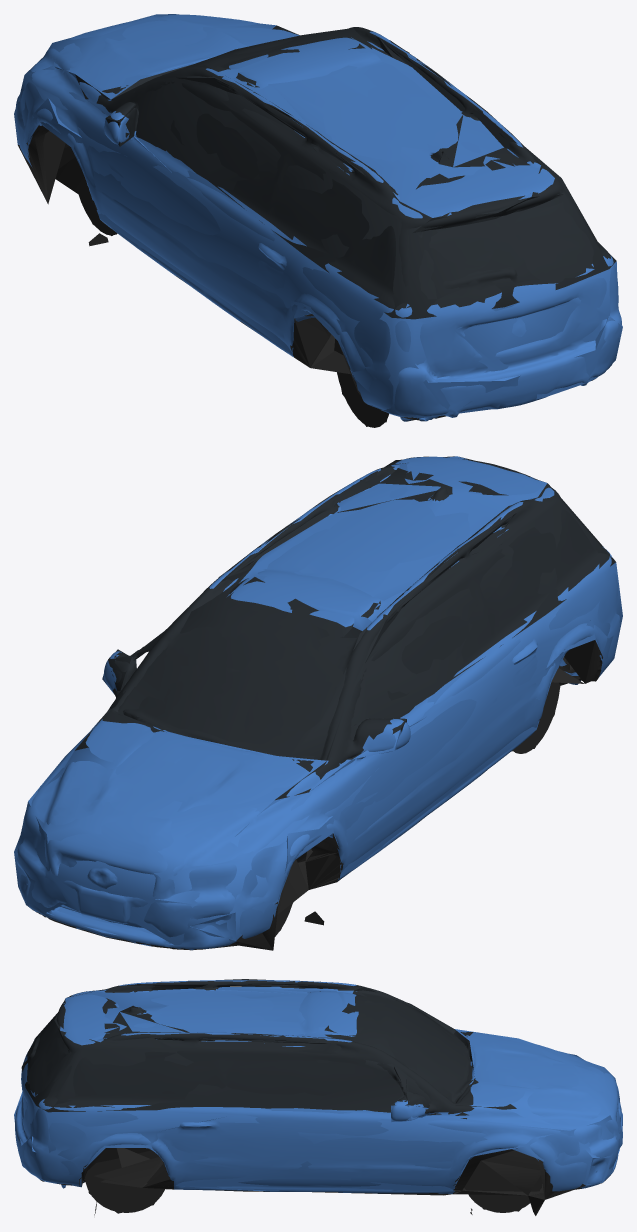
Rendered from volvo-xc70.glb.
The picture shows the model from 3 angles, top to bottom: view 1: azimuth 30°, elevation 25°; view 2: azimuth 150°, elevation 25°; view 3: azimuth 270°, elevation 25°; orthographic projection. The views are drawn at different scales.
Parts seen in each view (by area): view 1: body, far; view 2: body, far; view 3: body, far.
Boxes of the visible parts, x1=… form: body: x1=15, y1=14, x2=621, y2=427; far: x1=14, y1=14, x2=622, y2=426; body: x1=16, y1=456, x2=620, y2=950; far: x1=14, y1=456, x2=622, y2=950; body: x1=15, y1=980, x2=622, y2=1215; far: x1=14, y1=979, x2=621, y2=1213.
Size of the model in its own units: 1.99 by 1.59 by 4.9.
